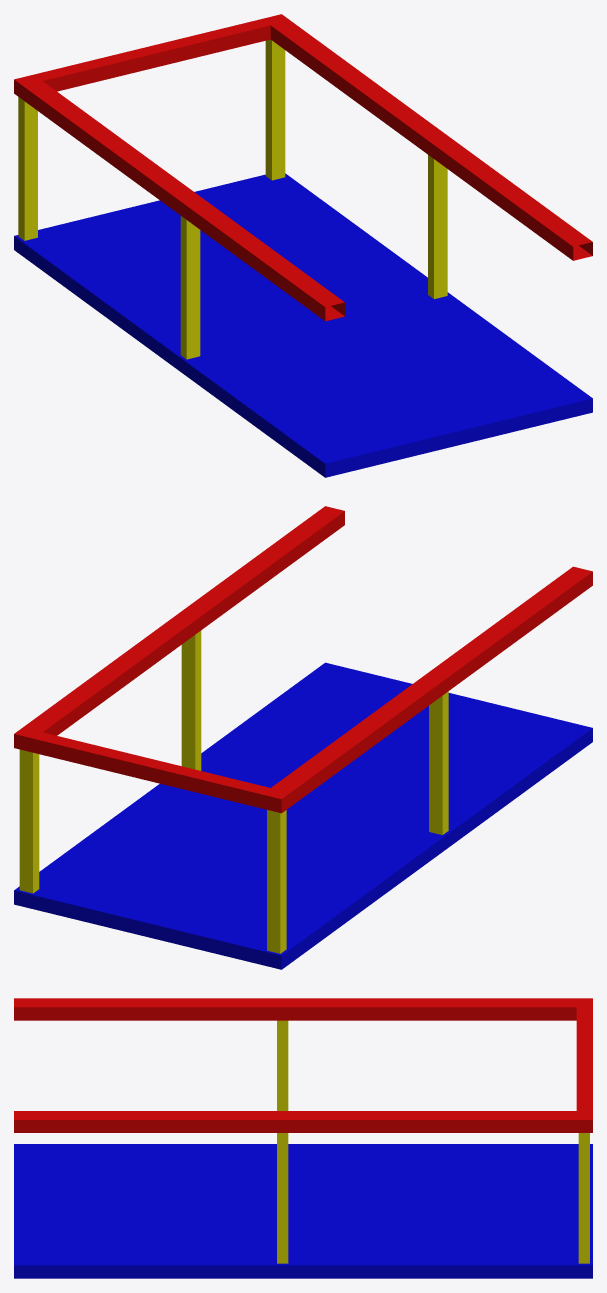
File: SM0036_Scifi_HangarPlatform_ExteriorCap_01.fbx
The picture shows the model from 3 angles, top to bottom: view 1: azimuth 30°, elevation 25°; view 2: azimuth 150°, elevation 25°; view 3: azimuth 270°, elevation 25°; orthographic projection. The views are drawn at different scales.
Parts seen in each view (by area): view 1: SM0036_Scifi_HangarPlatform_ExteriorCap_01; view 2: SM0036_Scifi_HangarPlatform_ExteriorCap_01; view 3: SM0036_Scifi_HangarPlatform_ExteriorCap_01.
Boxes of the visible parts, x1,y1,x2,y2 form: SM0036_Scifi_HangarPlatform_ExteriorCap_01: [14, 14, 592, 477]; SM0036_Scifi_HangarPlatform_ExteriorCap_01: [14, 506, 592, 969]; SM0036_Scifi_HangarPlatform_ExteriorCap_01: [14, 998, 592, 1278].
Size of the model in its own units: 199 by 121 by 400.
